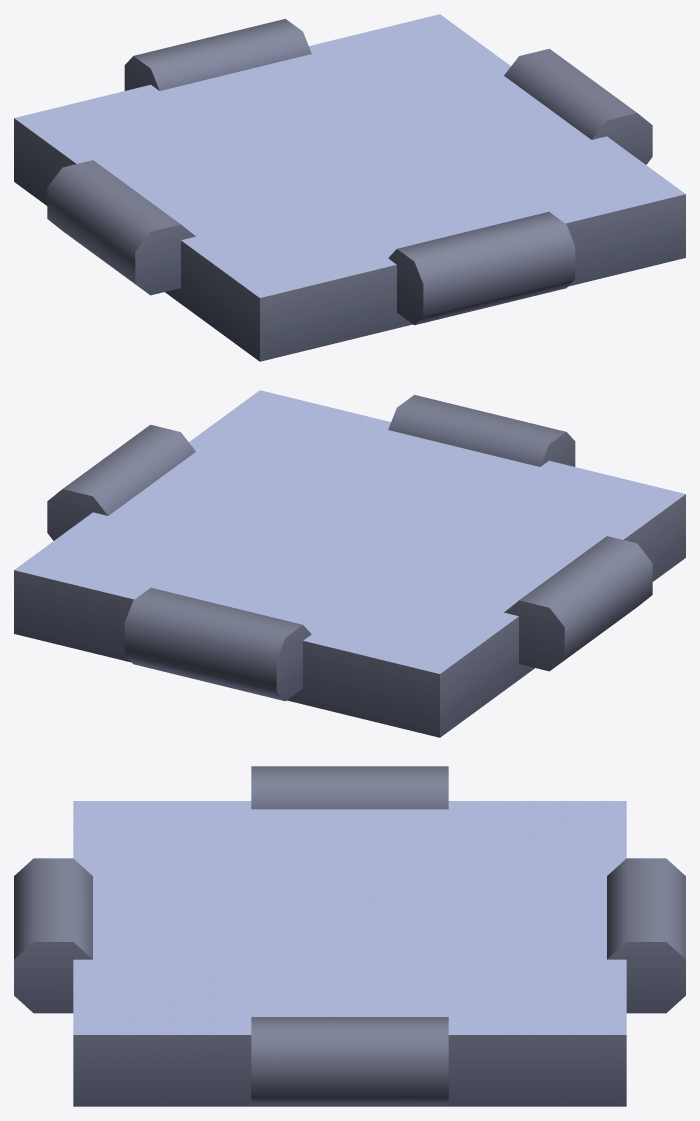
Rendered from structure-panel.glb.
The picture shows the model from 3 angles, top to bottom: view 1: azimuth 30°, elevation 25°; view 2: azimuth 150°, elevation 25°; view 3: azimuth 270°, elevation 25°; orthographic projection. The views are drawn at different scales.
Parts seen in each view (by area): view 1: structure-panel; view 2: structure-panel; view 3: structure-panel.
Boxes of the visible parts, bbox=[...] form: structure-panel: bbox=[14, 14, 685, 361]; structure-panel: bbox=[14, 390, 685, 737]; structure-panel: bbox=[14, 766, 685, 1106].
Size of the model in its own units: 0.85 by 0.125 by 0.85.
1 material, 1 textured.
